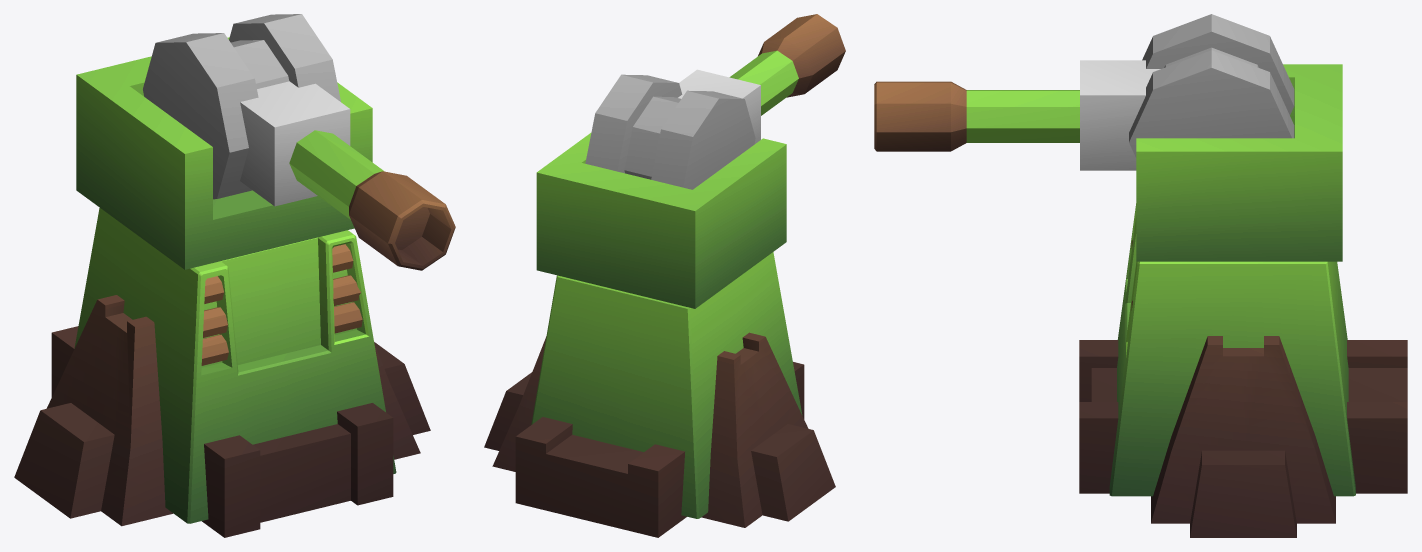
Rendered from Tower_01.fbx.
The picture shows the model from 3 angles, left to right: view 1: azimuth 30°, elevation 25°; view 2: azimuth 150°, elevation 25°; view 3: azimuth 270°, elevation 25°; orthographic projection. The views are drawn at different scales.
Parts seen in each view (by area): view 1: pCube13; view 2: pCube13; view 3: pCube13.
Boxes of the visible parts, x1=… form: pCube13: x1=14, y1=14, x2=455, y2=537; pCube13: x1=484, y1=14, x2=845, y2=537; pCube13: x1=874, y1=14, x2=1407, y2=537.
Bounding box in the file's own units: 11.07 × 12.82 × 14.92.
